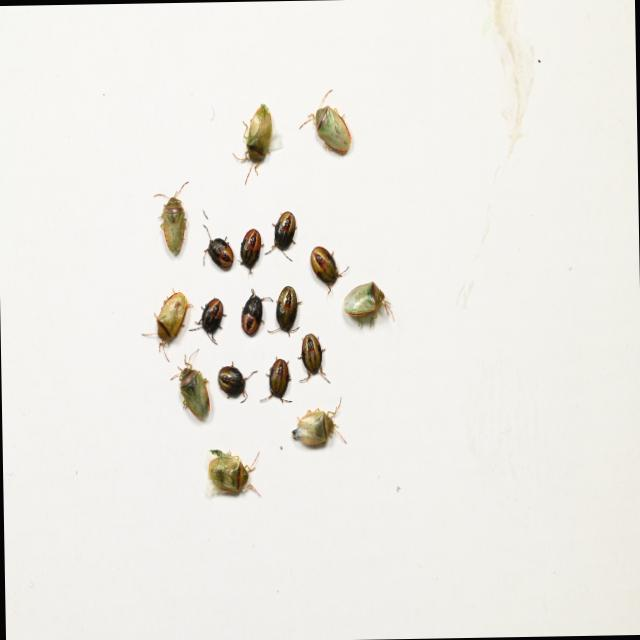stinkbug: (140, 284, 194, 361), (230, 100, 276, 186), (296, 88, 354, 156), (166, 347, 210, 422), (290, 396, 348, 449), (152, 180, 192, 256), (206, 444, 262, 498), (342, 278, 396, 328)
